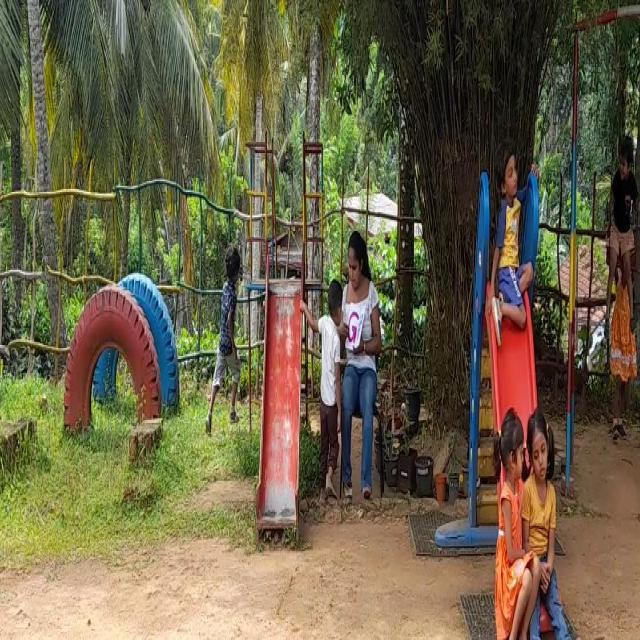adult: (342, 217, 382, 524)
child: (526, 412, 579, 640), (484, 415, 528, 640), (496, 126, 533, 332), (311, 270, 340, 514), (602, 132, 638, 328), (211, 240, 243, 437)
